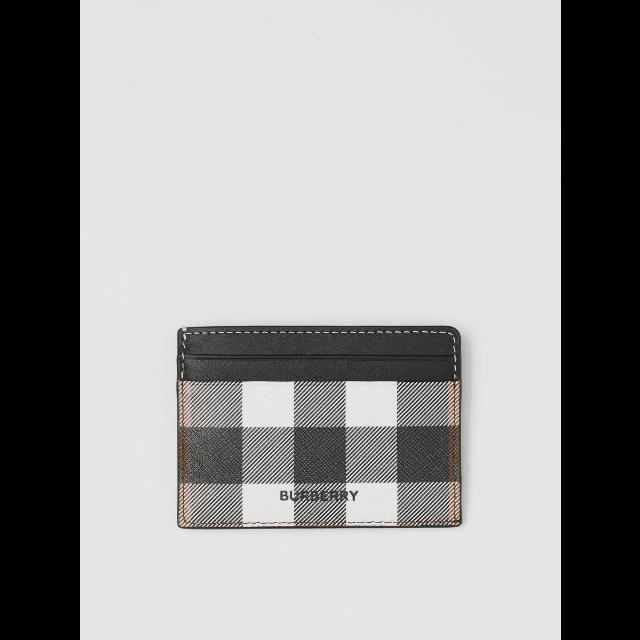Wallet: (172, 320, 466, 530)
